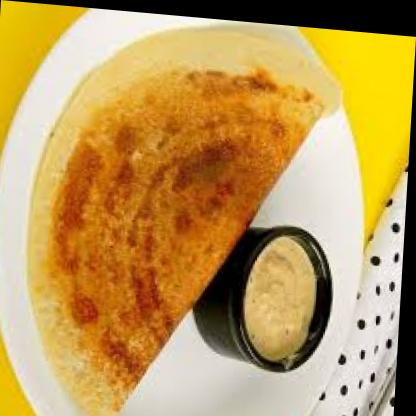dosa: (21, 13, 344, 416)
